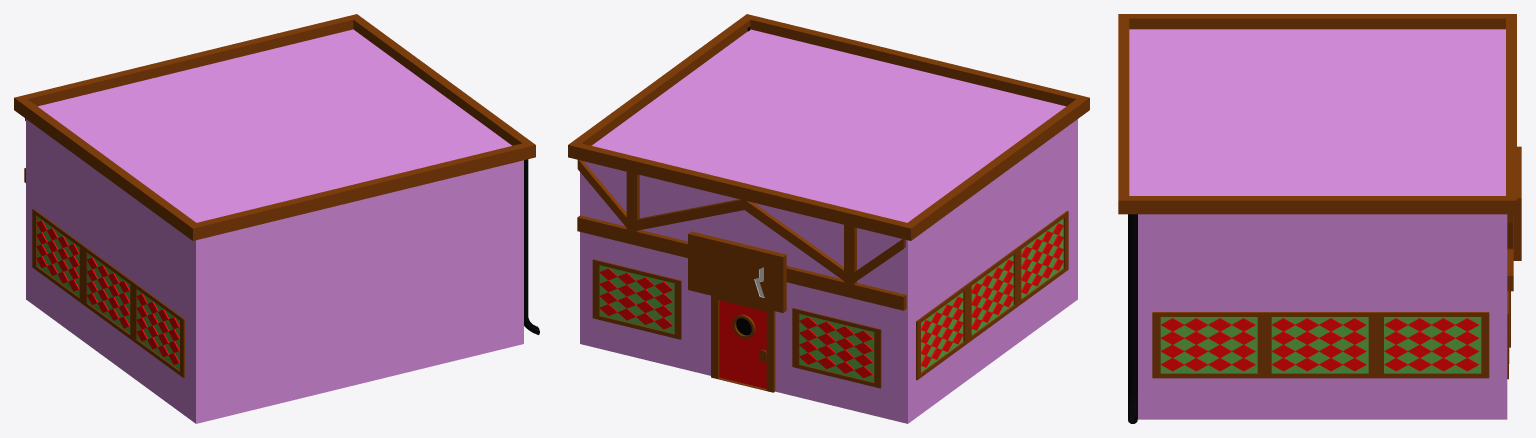
File: housebar.fbx
The picture shows the model from 3 angles, left to right: view 1: azimuth 30°, elevation 25°; view 2: azimuth 150°, elevation 25°; view 3: azimuth 270°, elevation 25°; orthographic projection. The views are drawn at different scales.
Visible parts, largest first — view 1: housebar; view 2: housebar; view 3: housebar.
Part boxes in pixels (x1,y1,x2,y2): housebar: (14,14,539,423); housebar: (568,14,1089,423); housebar: (1118,14,1521,423).
Bounding box in the file's own units: 2086 × 1137 × 1861.
